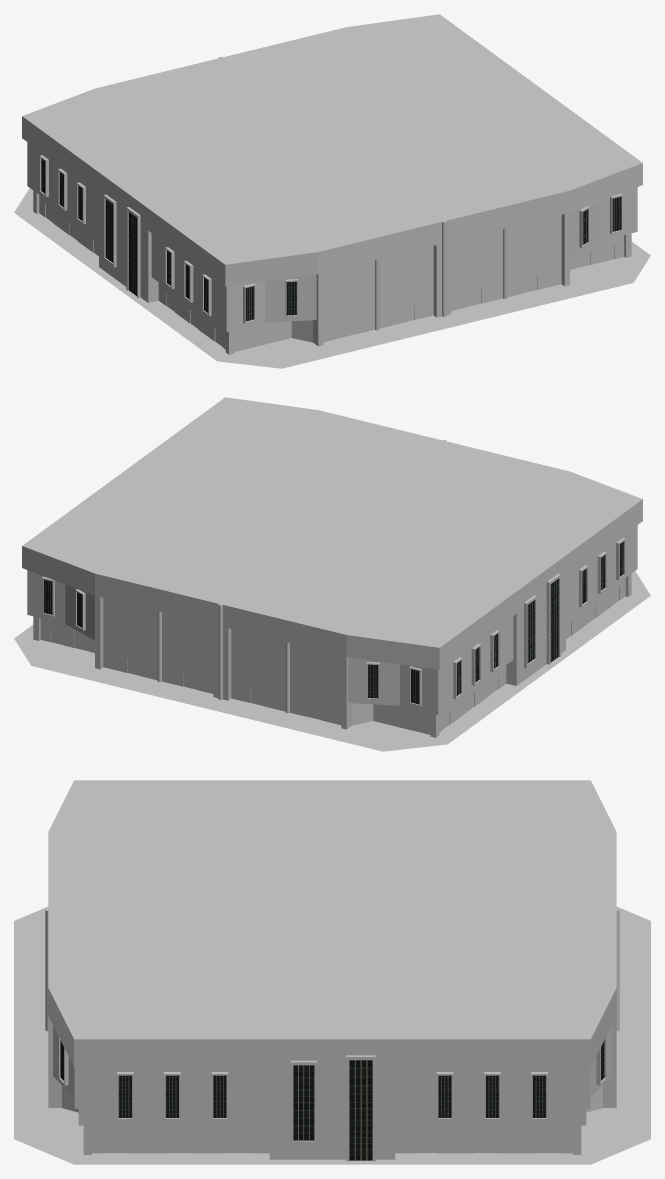
3 views of the same model, one above another, from view 1: azimuth 30°, elevation 25°; view 2: azimuth 150°, elevation 25°; view 3: azimuth 270°, elevation 25° (orthographic). The views are drawn at different scales.
Parts seen in each view (by area): view 1: QD-11; view 2: QD-11; view 3: QD-11.
Boxes of the visible parts, box(x1,y1,x2,y2) form: QD-11: box(14, 14, 650, 368); QD-11: box(14, 397, 650, 751); QD-11: box(14, 780, 650, 1164).
Size of what is drawn, in the model's own units: 72 by 15 by 72.
